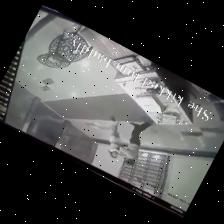person: (119, 121, 151, 164), (108, 121, 119, 157)
